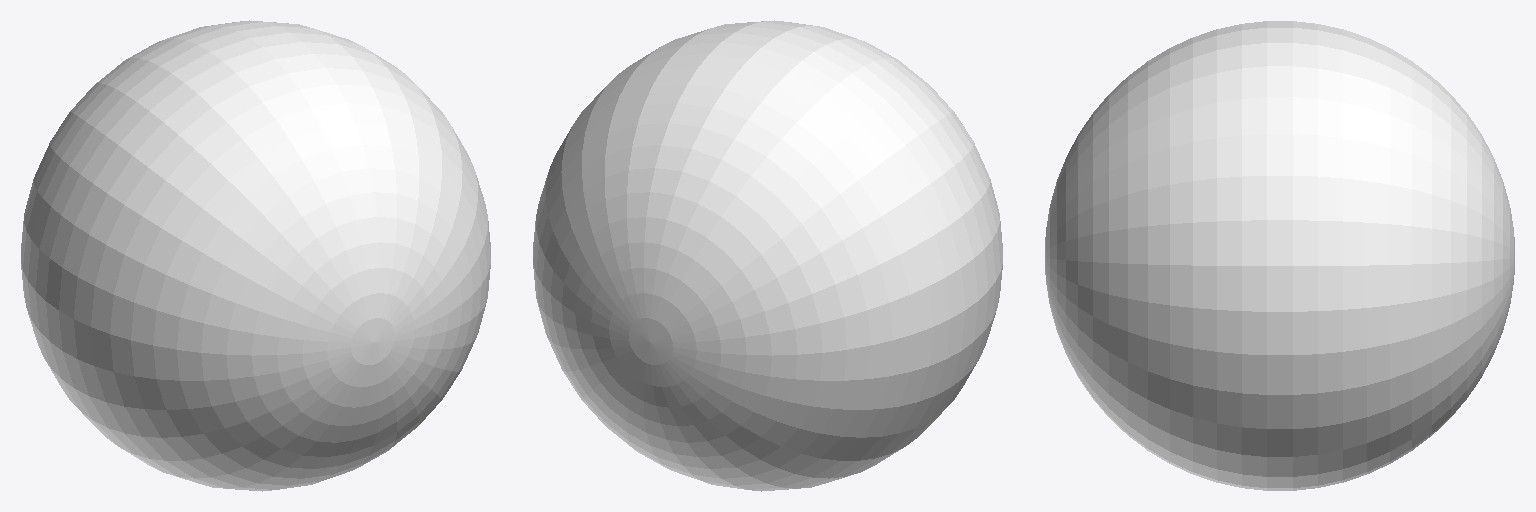
robot.urdf — ball:
<?xml version="1.0" ?>
<robot name="ball">
  <link name="baseLink">
    <inertial>
      <origin rpy="0 0 0" xyz="0 0 0"/>
      <mass value="0.0027"/>
      <inertia ixx="7.2e-7" ixy="0" ixz="0" iyy="7.2e-7" iyz="0" izz="7.2e-7"/>
    </inertial>
    <visual>
      <origin rpy="0 0 0" xyz="0 0 0"/>
      <geometry>
        <mesh filename="textured_sphere.obj" scale="0.02 0.02 0.02"/>
      </geometry>
      <material name="white">
        <color rgba="1 1 1 1"/>
      </material>
    </visual>
    <collision>
      <origin rpy="0 0 0" xyz="0 0 0"/>
      <geometry>
        <sphere radius="0.02"/>
      </geometry>
    </collision>
  </link>
</robot>

--- What the picture shows (computed from the rendered views, not written in the file) ---
Views: 3 orthographic renders of the robot side by side, from view 1: azimuth 30°, elevation 25°; view 2: azimuth 150°, elevation 25°; view 3: azimuth 270°, elevation 25°.
Model ball with 1 links and 0 joints (none), rooted at baseLink, posed all joints at 0.
Links seen in each view (by area): view 1: baseLink; view 2: baseLink; view 3: baseLink.
Boxes of the visible links, left/top/right/bottom form: baseLink: left=21, top=20, right=490, bottom=491; baseLink: left=533, top=20, right=1002, bottom=491; baseLink: left=1045, top=21, right=1514, bottom=490.
Bounding box of the posed robot: 0.0399 × 0.04 × 0.0399 m (x, y, z).
Meshes: 1 distinct files referenced, 1 mesh visuals loaded (1 OBJ).
